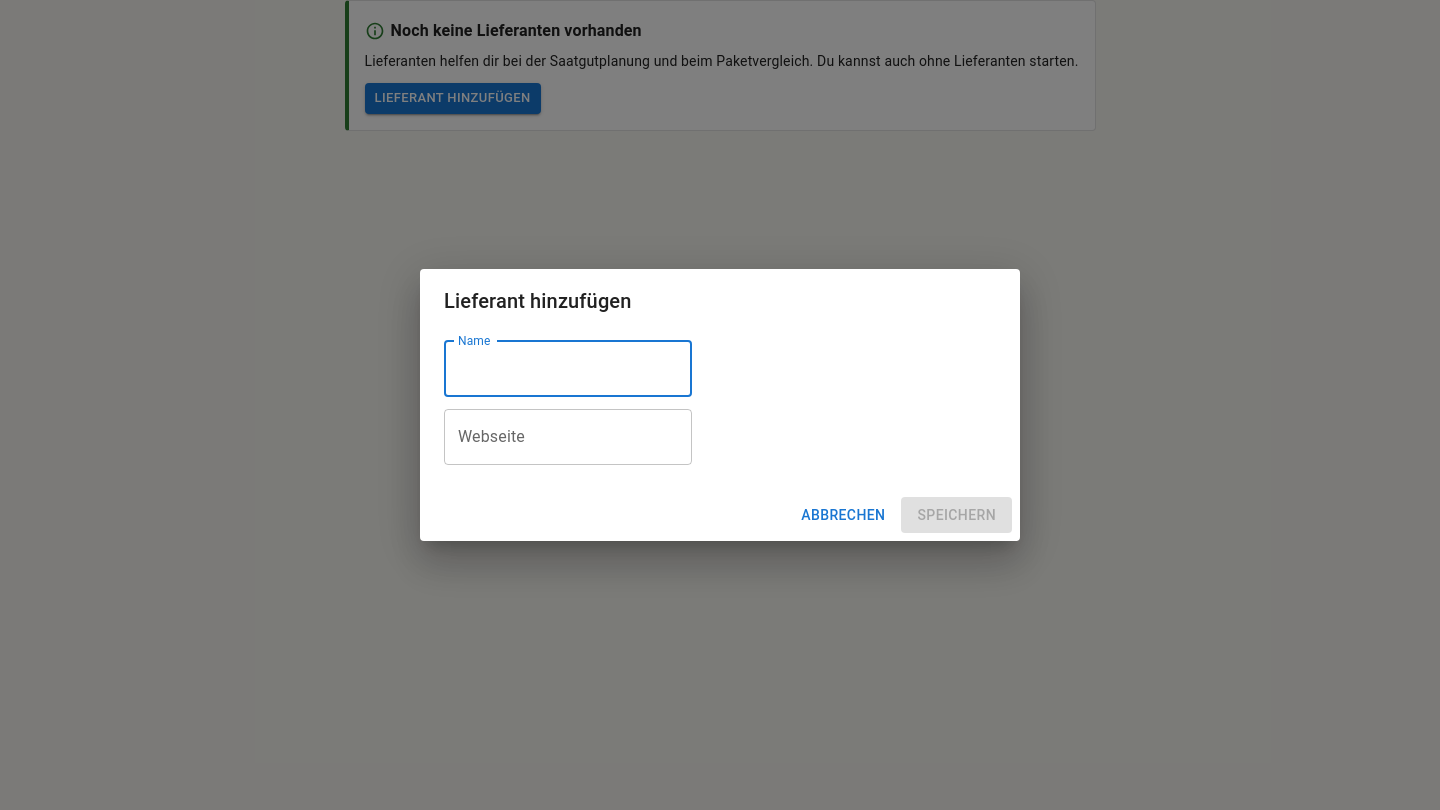
Suppliers page empty and table states › shows backend supplier name errors under the name field
Type "Reinsaat" into the field labelled "Name" at point(568, 369), box [444,341,692,397]
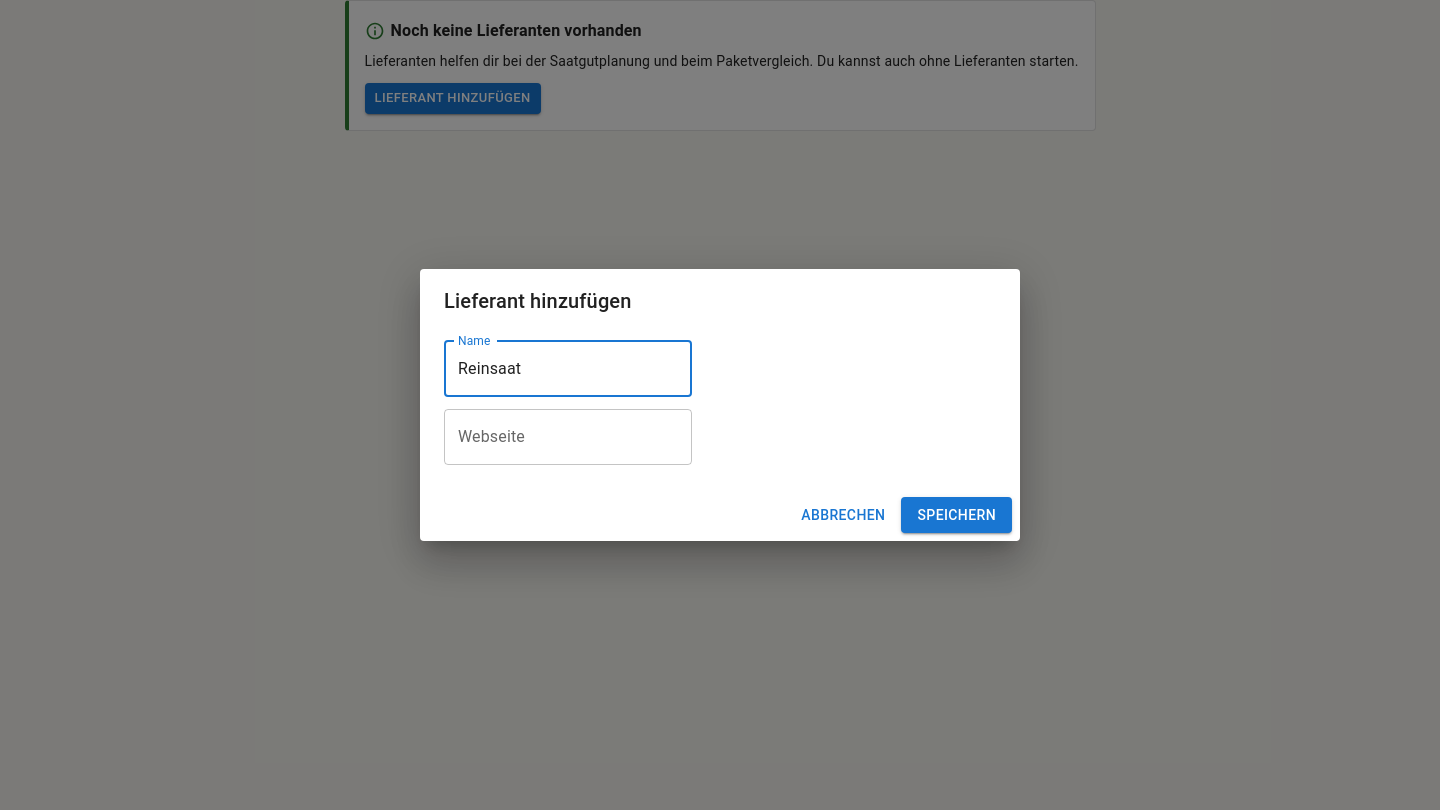
Click the button "Speichern" at point(957, 515), box [901,497,1012,533]
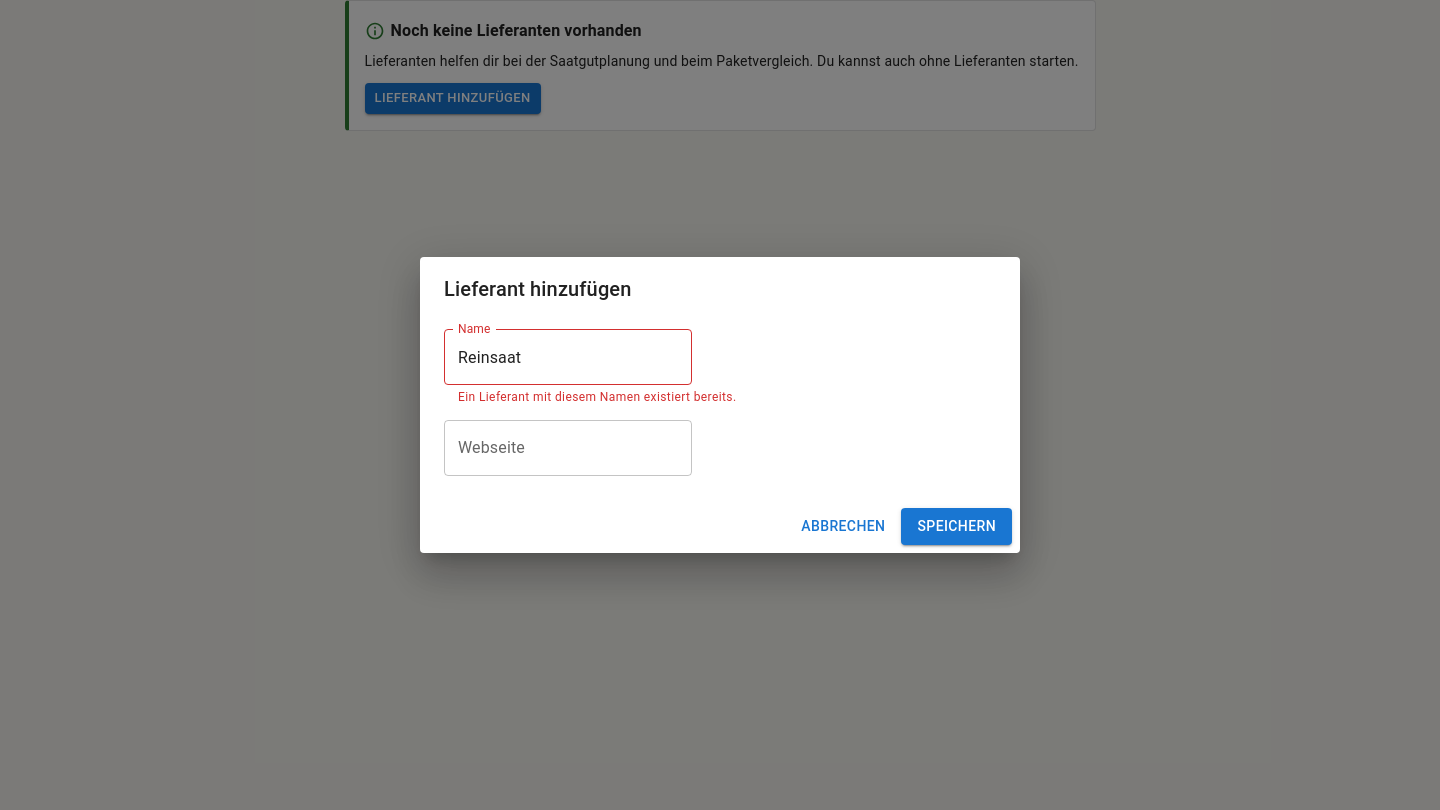
Now the text "Ein Lieferant mit diesem Namen existiert bereits." is shown, box [458,388,736,408]
